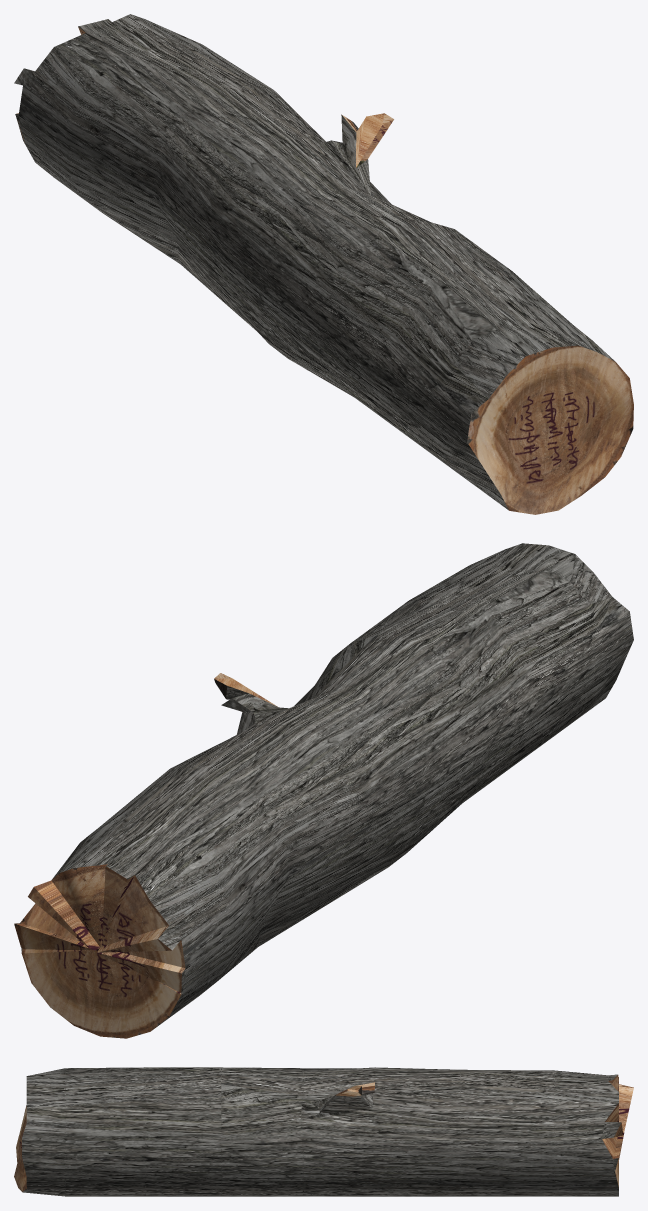
The model's file is trunk.FBX.
3 renders of one model, top to bottom at view 1: azimuth 30°, elevation 25°; view 2: azimuth 150°, elevation 25°; view 3: azimuth 270°, elevation 25°, orthographic. The views are drawn at different scales.
Visible parts, largest first — view 1: pCylinder1; view 2: pCylinder1; view 3: pCylinder1.
Boxes of the visible parts, left/top/right/bottom form: pCylinder1: left=14, top=14, right=633, bottom=514; pCylinder1: left=14, top=543, right=633, bottom=1038; pCylinder1: left=14, top=1067, right=633, bottom=1196.
Bounding box in the file's own units: 3.67 × 3.96 × 17.34.
2 materials, 2 textured.
